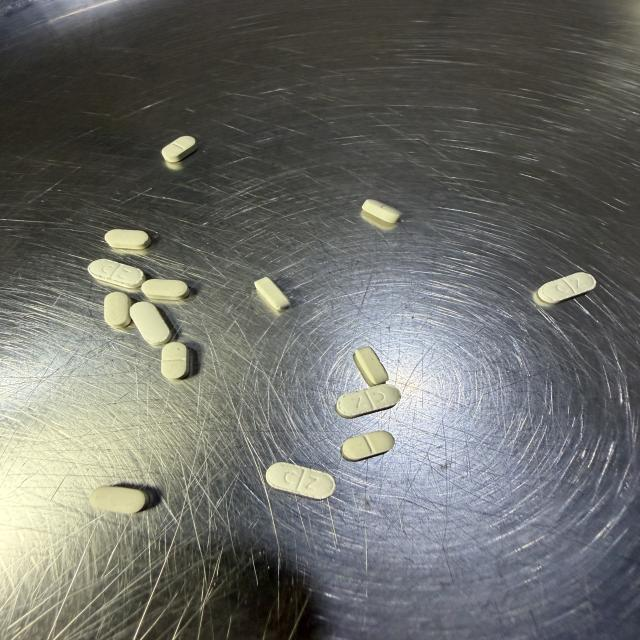pill: (266, 463, 335, 499), (336, 384, 400, 418), (130, 302, 170, 346), (538, 273, 596, 303), (88, 259, 145, 288), (89, 486, 148, 513), (341, 431, 394, 461), (354, 347, 388, 386), (255, 277, 289, 310), (104, 292, 132, 328), (162, 342, 189, 379), (142, 279, 189, 300), (362, 199, 401, 224), (162, 136, 196, 162), (105, 230, 150, 249), (361, 210, 395, 230)
